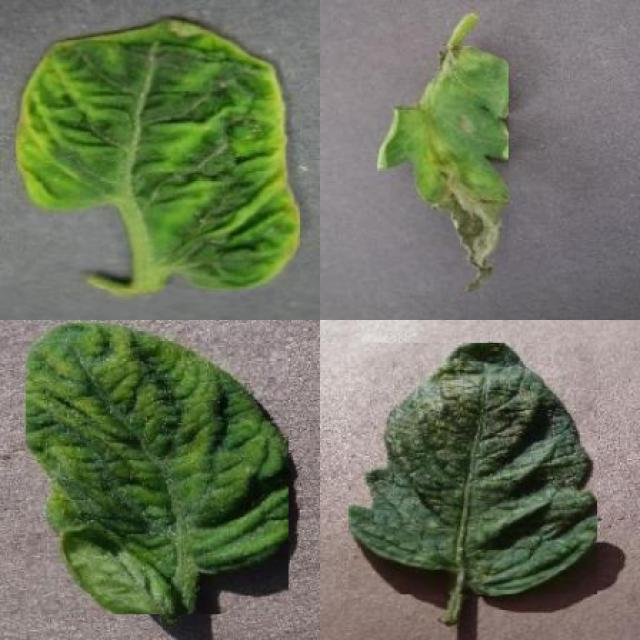Late Blight: (377, 47, 509, 292)
Spider Mites: (349, 342, 597, 594)
Yellow Leaf Curl Virus: (16, 15, 300, 288), (25, 322, 288, 614)
